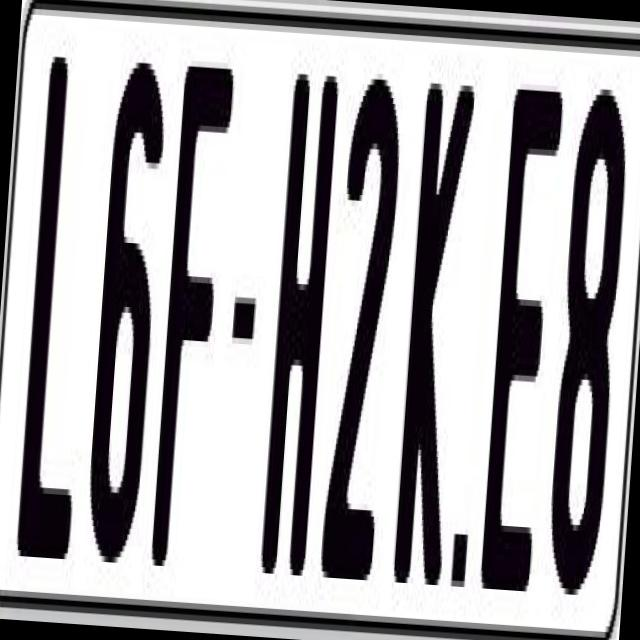2: (318, 71, 412, 604)
6: (84, 54, 176, 558)
8: (542, 70, 638, 585)
E: (479, 88, 571, 592)
F: (148, 53, 240, 592)
H: (255, 55, 342, 588)
K: (388, 77, 476, 585)
L: (12, 50, 104, 588)
